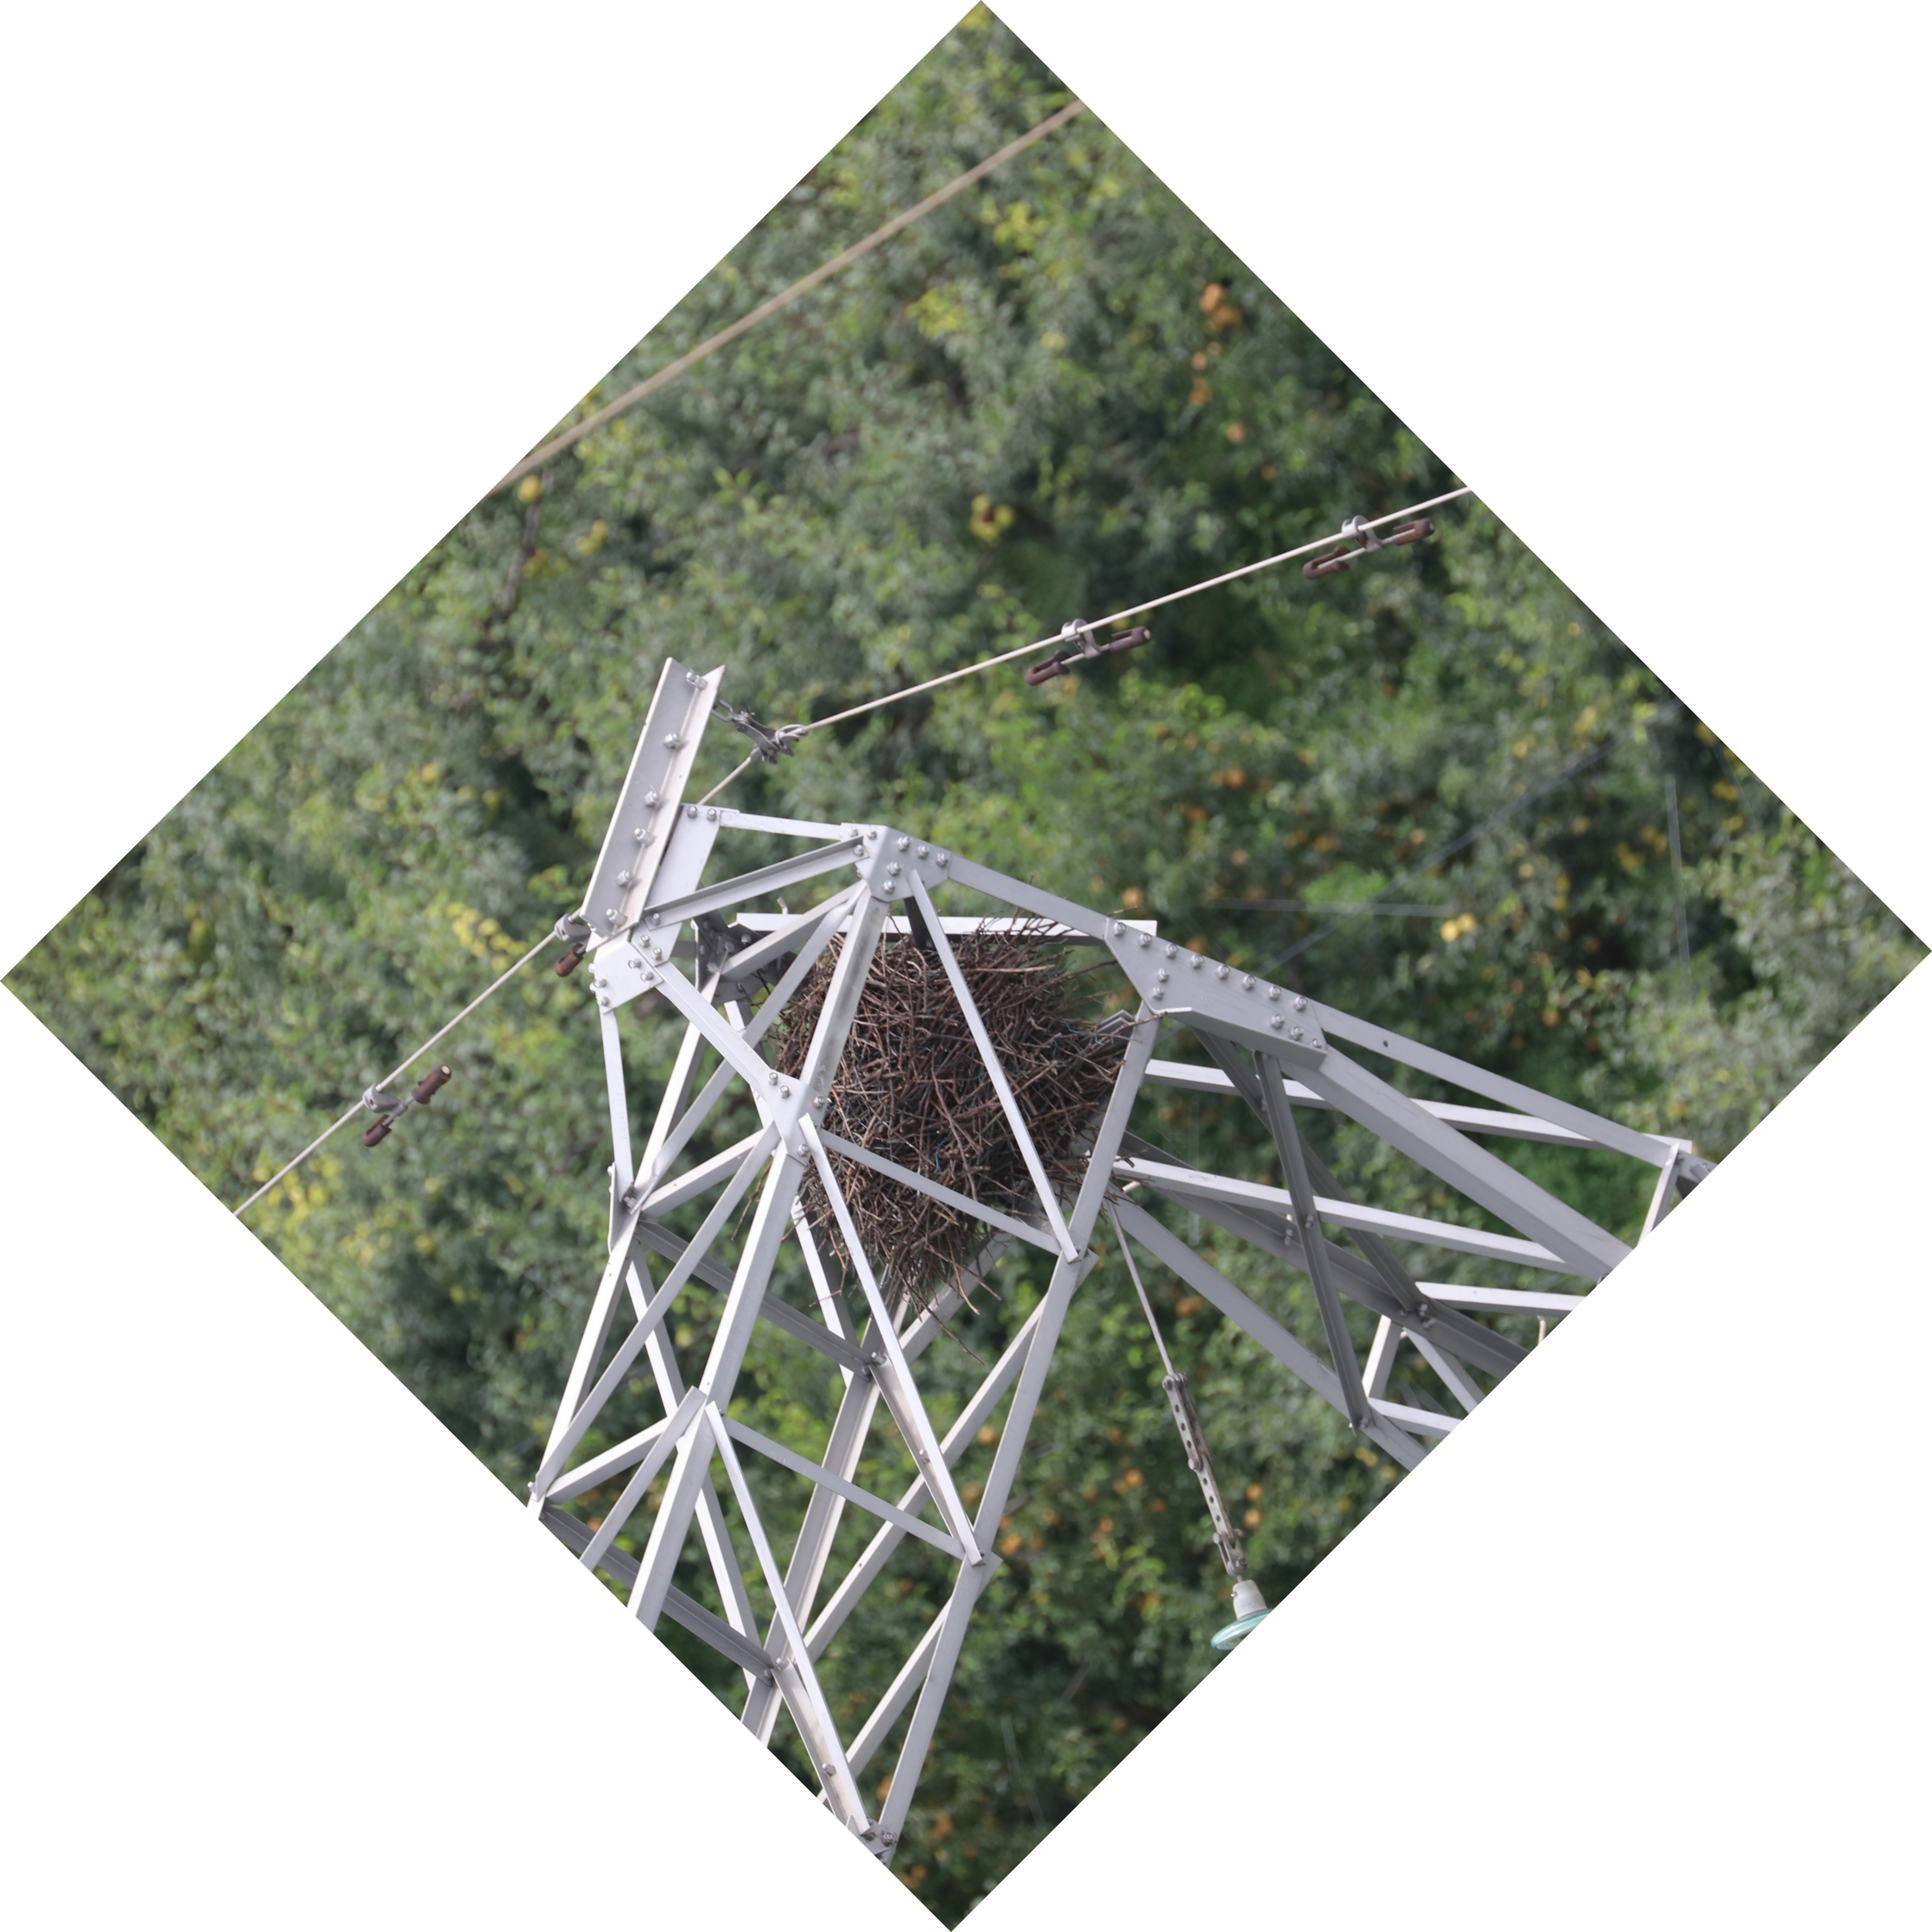niaowo: (748, 915, 1157, 1309)
